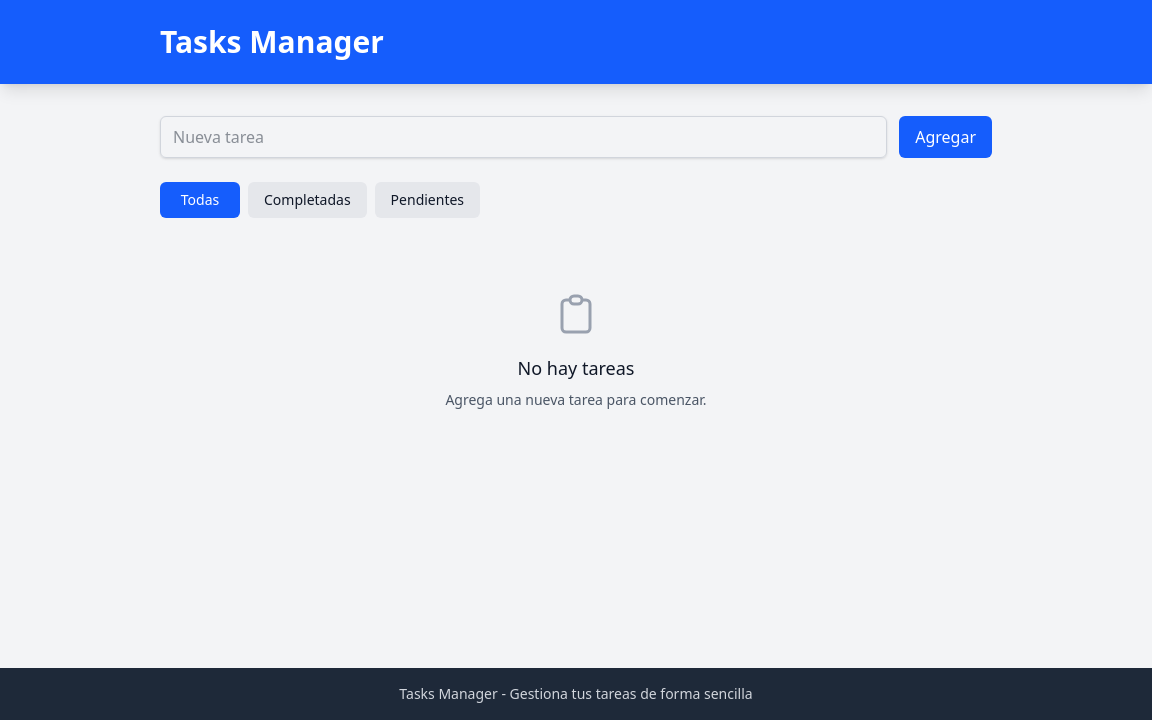
Test: App › complete user flow: add -> view -> complete -> filter › allows filtering tasks by status
This screenshot has width=1152, height=720.
# Add two tasks
Type "Task 1" into the field with placeholder "Nueva tarea" at [524, 137], box [160, 116, 887, 158]
Click the button "Agregar" at [946, 137], box [899, 116, 992, 158]
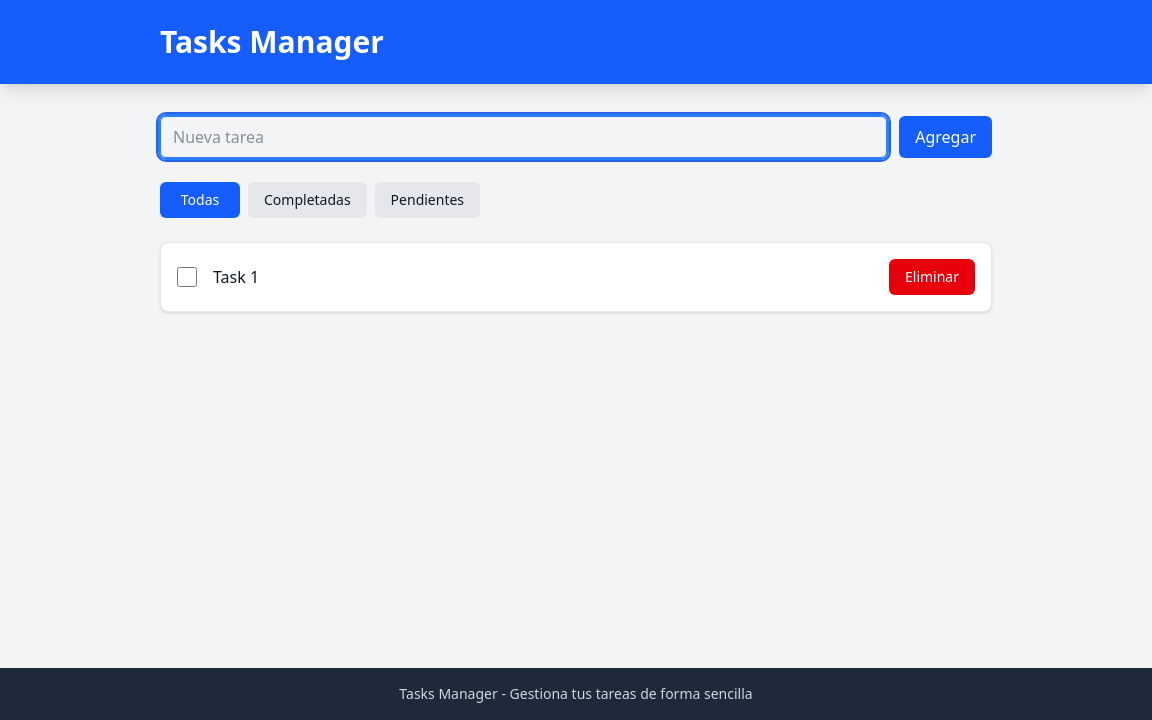
Type "Task 2" into the field with placeholder "Nueva tarea" at [524, 137], box [160, 116, 887, 158]
Click the button "Agregar" at [946, 137], box [899, 116, 992, 158]
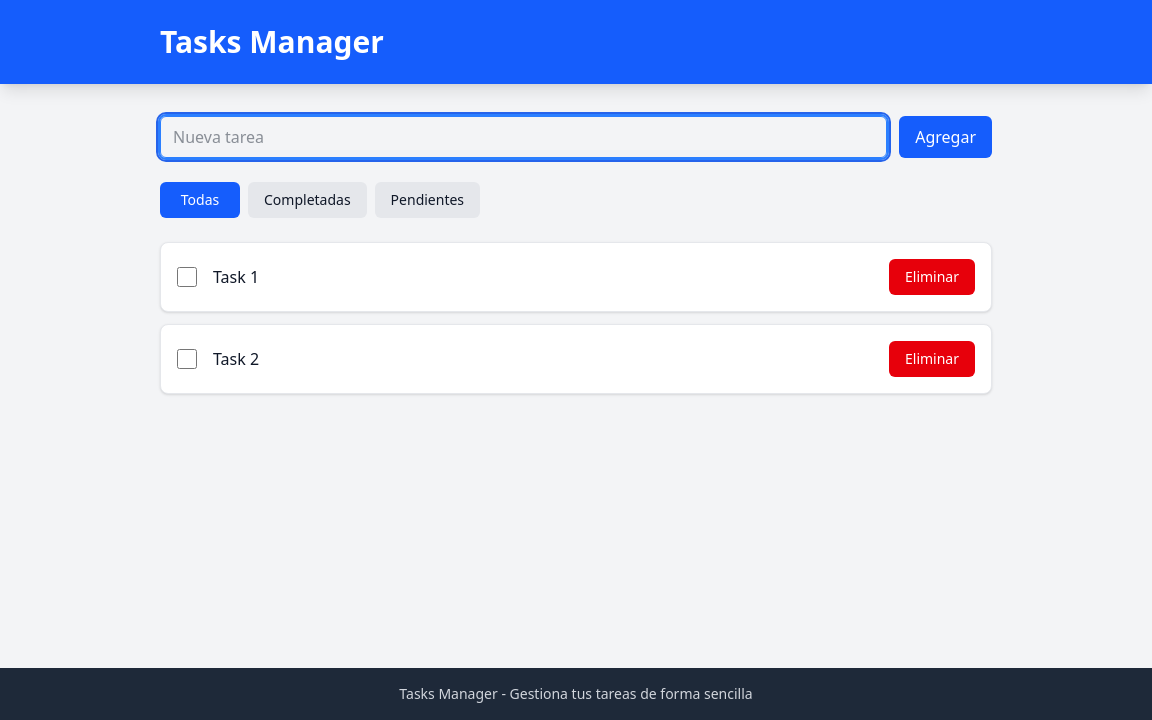
# Complete first task
Click the checkbox named "Marcar \"Task 1\" como completada" at [187, 277], box [177, 267, 197, 287]
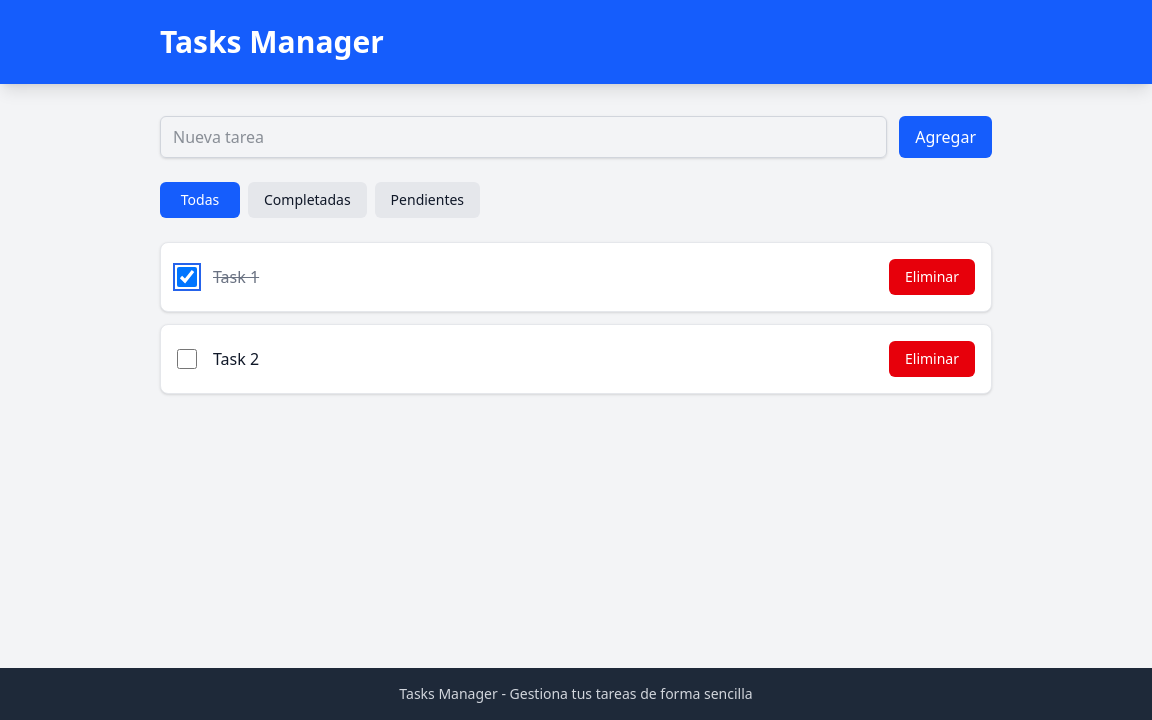
# Filter by completed
Click the button "Completadas" at [307, 200], box [248, 182, 367, 218]
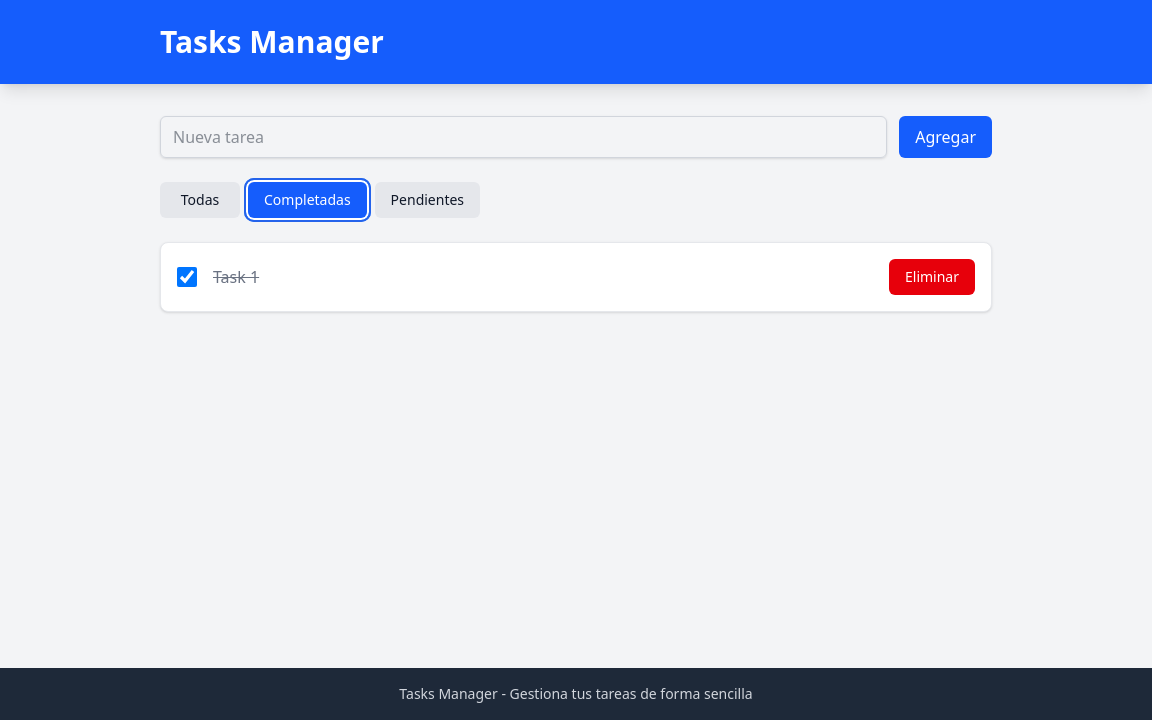
Expected: the button "Task 1" is shown, [213, 266, 259, 288]
Expected: the button "Task 2" is gone
# Filter by pending
Click the button "Pendientes" at [427, 200], box [375, 182, 480, 218]
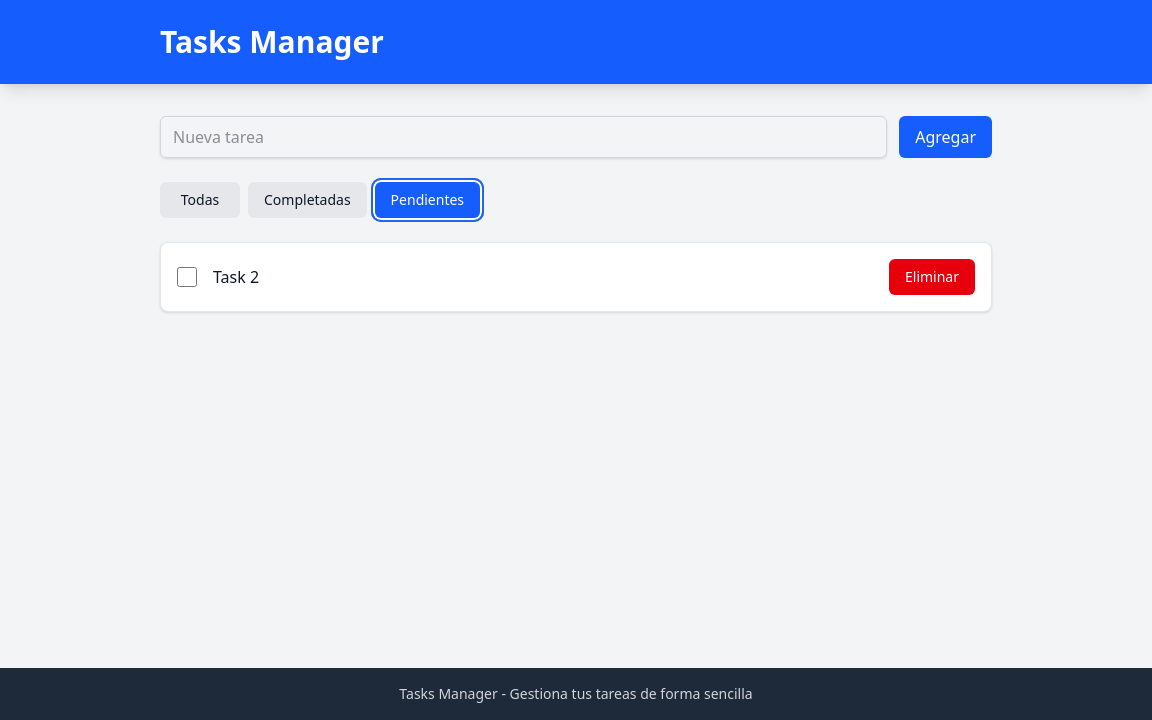
Expected: the button "Task 1" is gone
Expected: the button "Task 2" is shown, [213, 266, 259, 288]
# Filter all
Click the button "Todas" at [200, 200], box [160, 182, 240, 218]
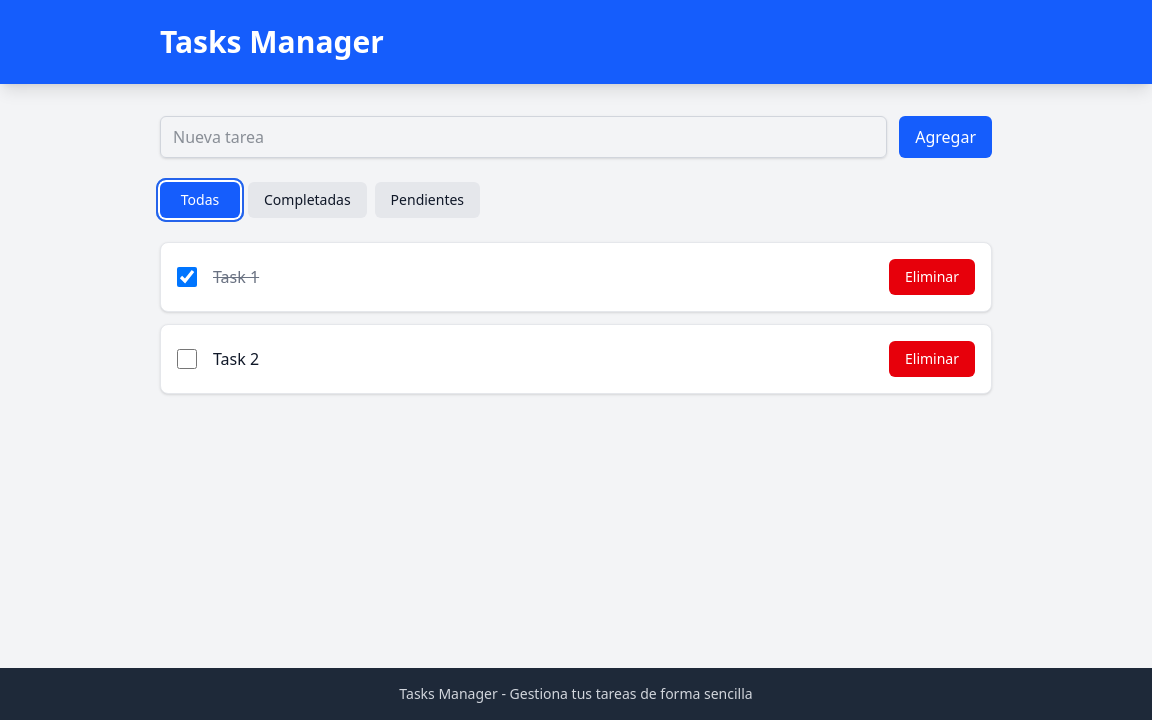
Expected: the button "Task 2" is shown, [213, 348, 259, 370]
Expected: the button "Task 1" is shown, [213, 266, 259, 288]
